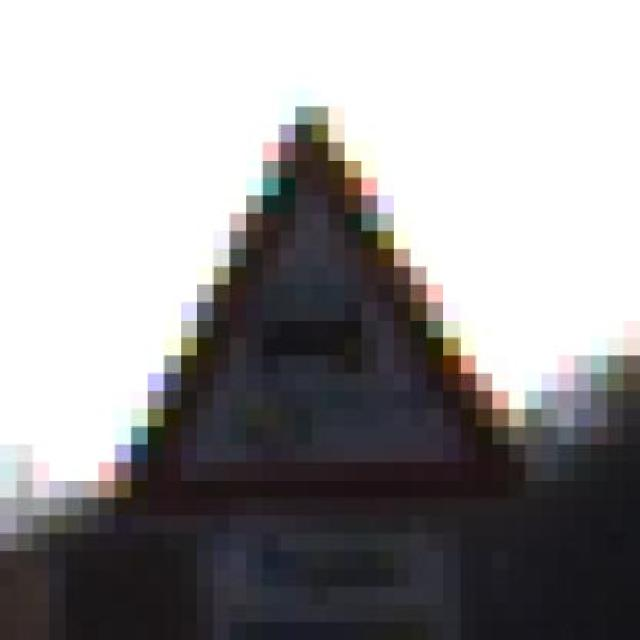Slippery Road Ahead: (65, 89, 558, 533)
